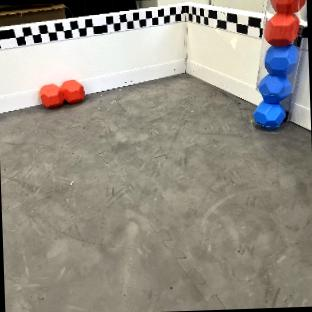V5_BLUE: (254, 44, 297, 128)
V5_RED: (265, 0, 306, 45), (39, 79, 85, 107)
